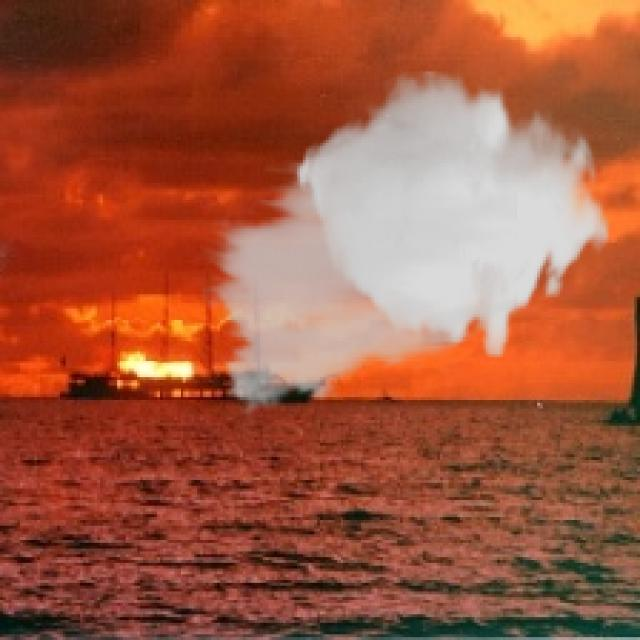smoke: (200, 71, 611, 423)
